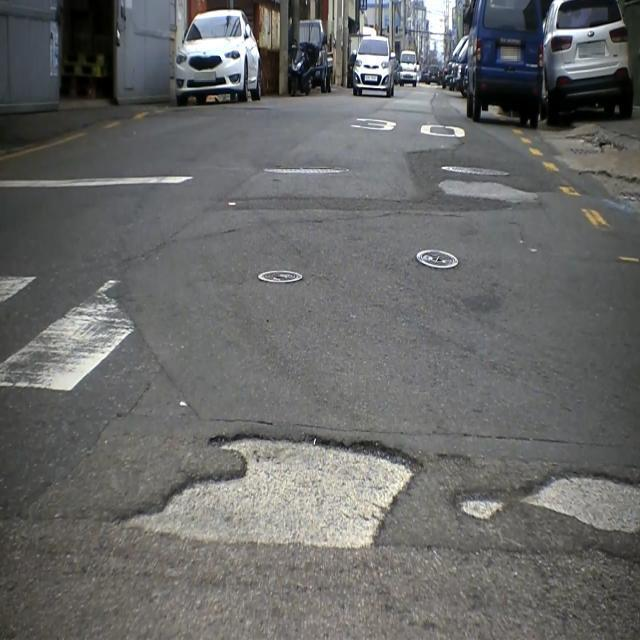pothole: (114, 431, 420, 549), (451, 469, 640, 538), (440, 173, 539, 215)
